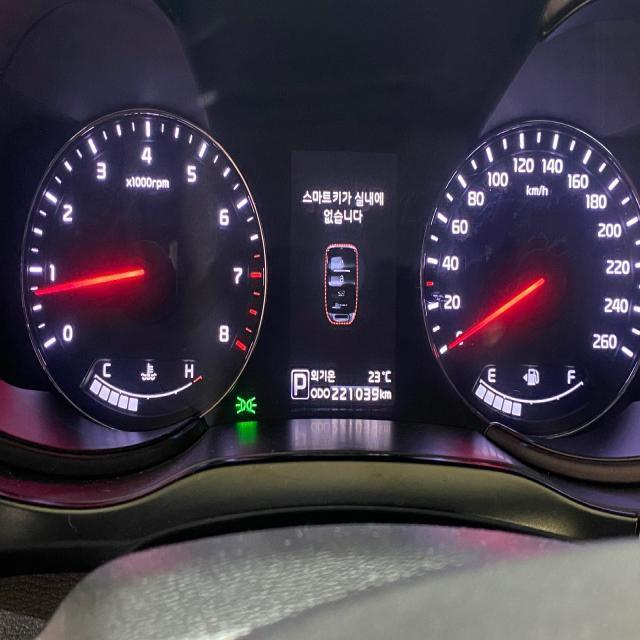SideLamp: (234, 394, 256, 414)
